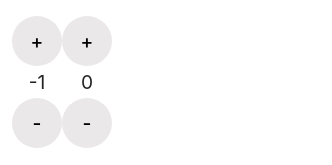
Test case: Counter › the counter is incremented when the minus button is clicked
Click the 2nd button "+": (87, 41) [62,16,112,66]
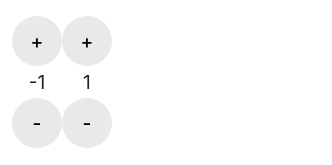
Expected: the text "1" is shown, [83,70,91,94]
